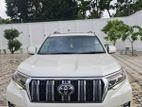car: (2, 29, 137, 107)
